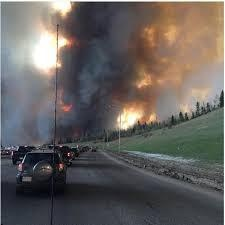fire: (114, 103, 156, 130)
